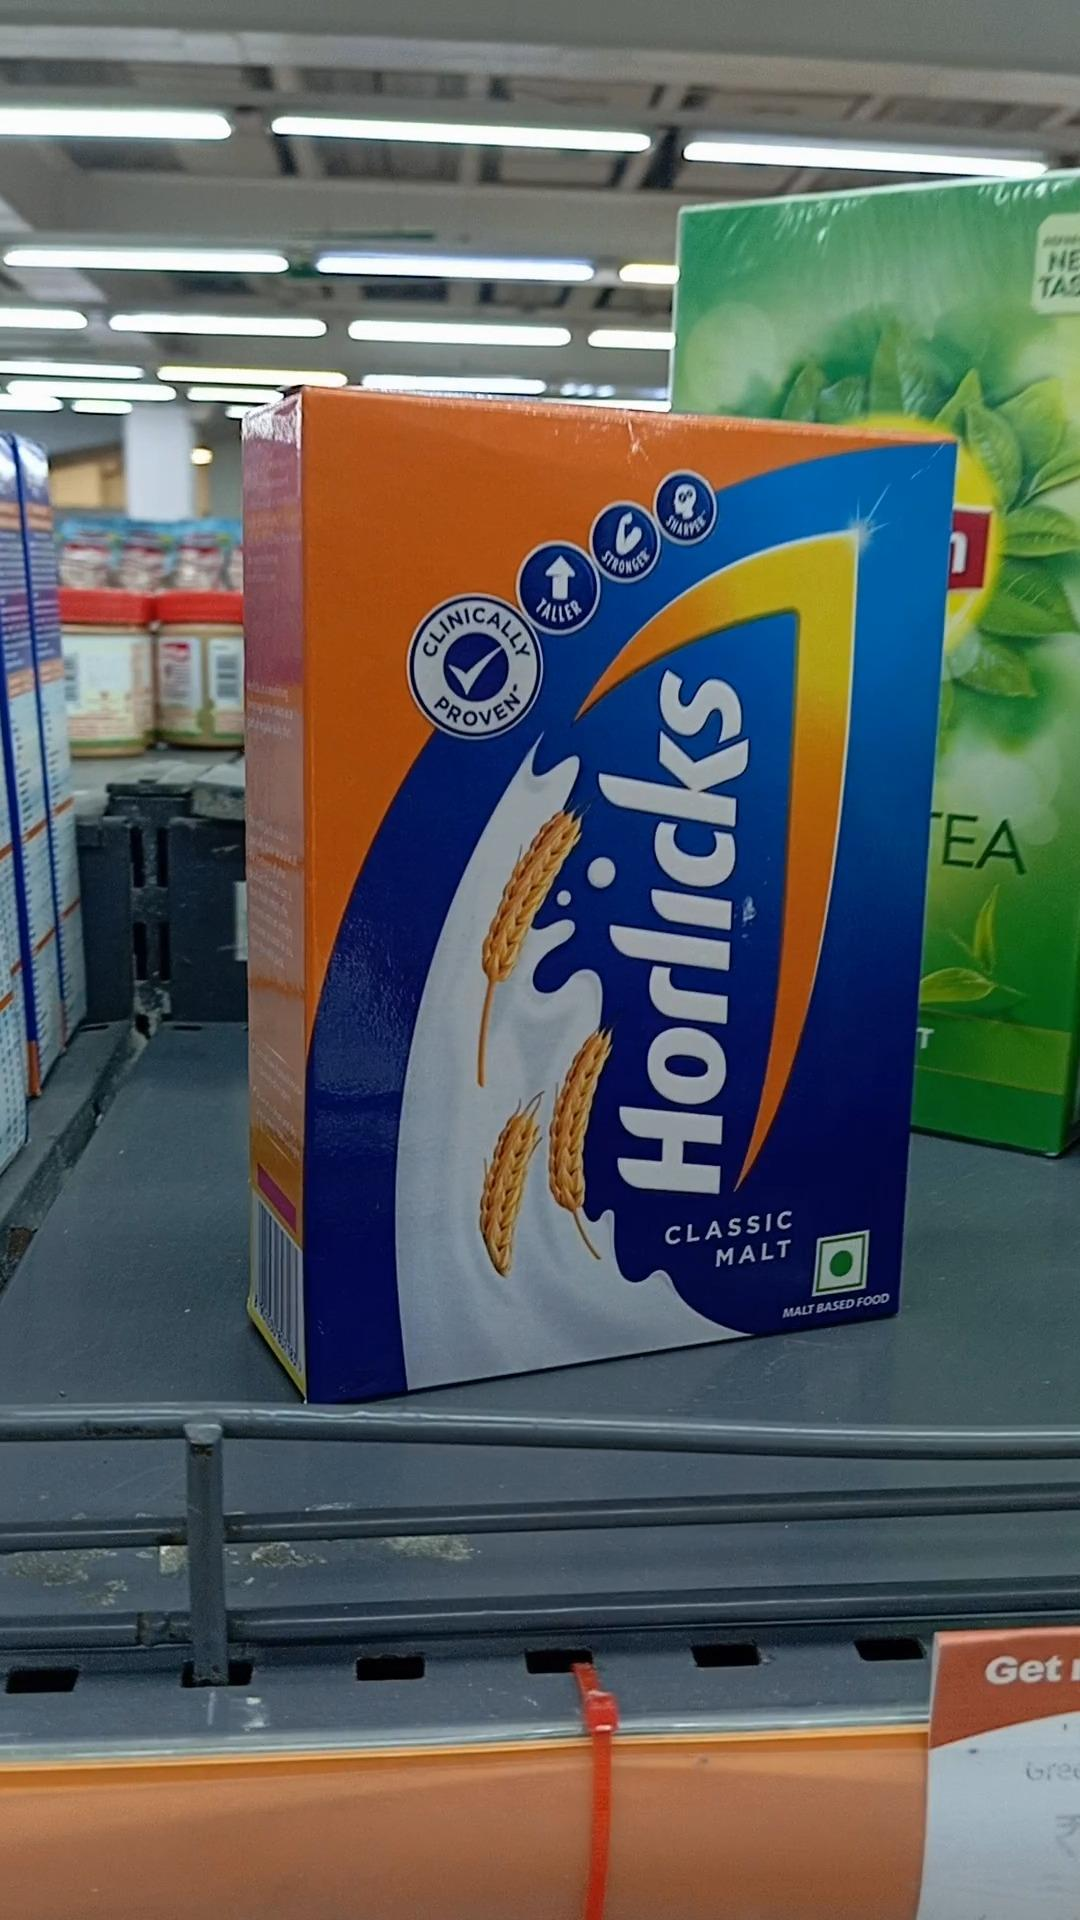HORLICK_CLASSIC_MALT_500_G_PACK: (302, 388, 953, 1395)
